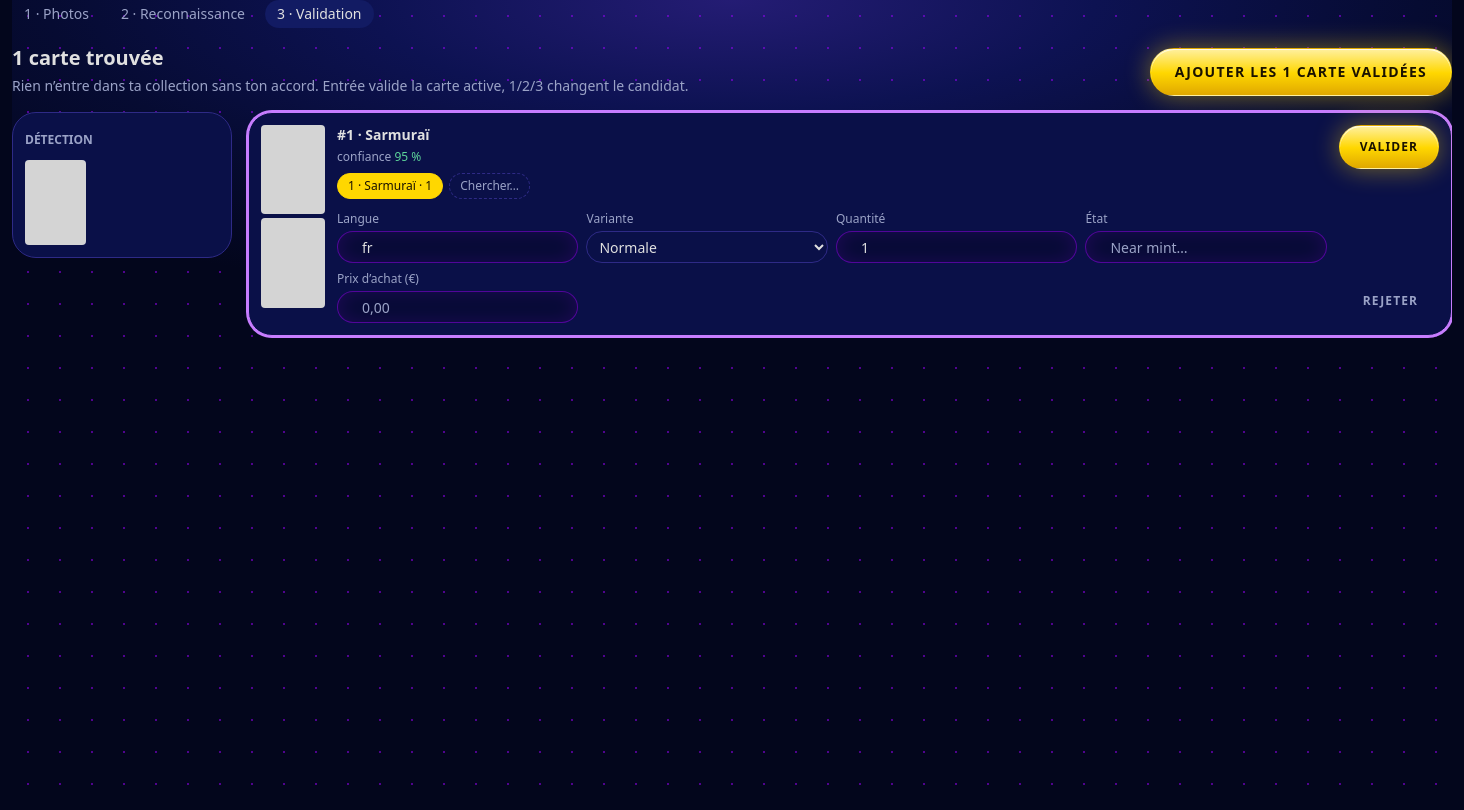
Test case: ValidationView › valide la carte active au clic sur « Valider » et envoie le candidat sélectionné
This screenshot has width=1464, height=810.
Click the button "Valider".
click(1389, 147)  # box [1339,125,1439,169]
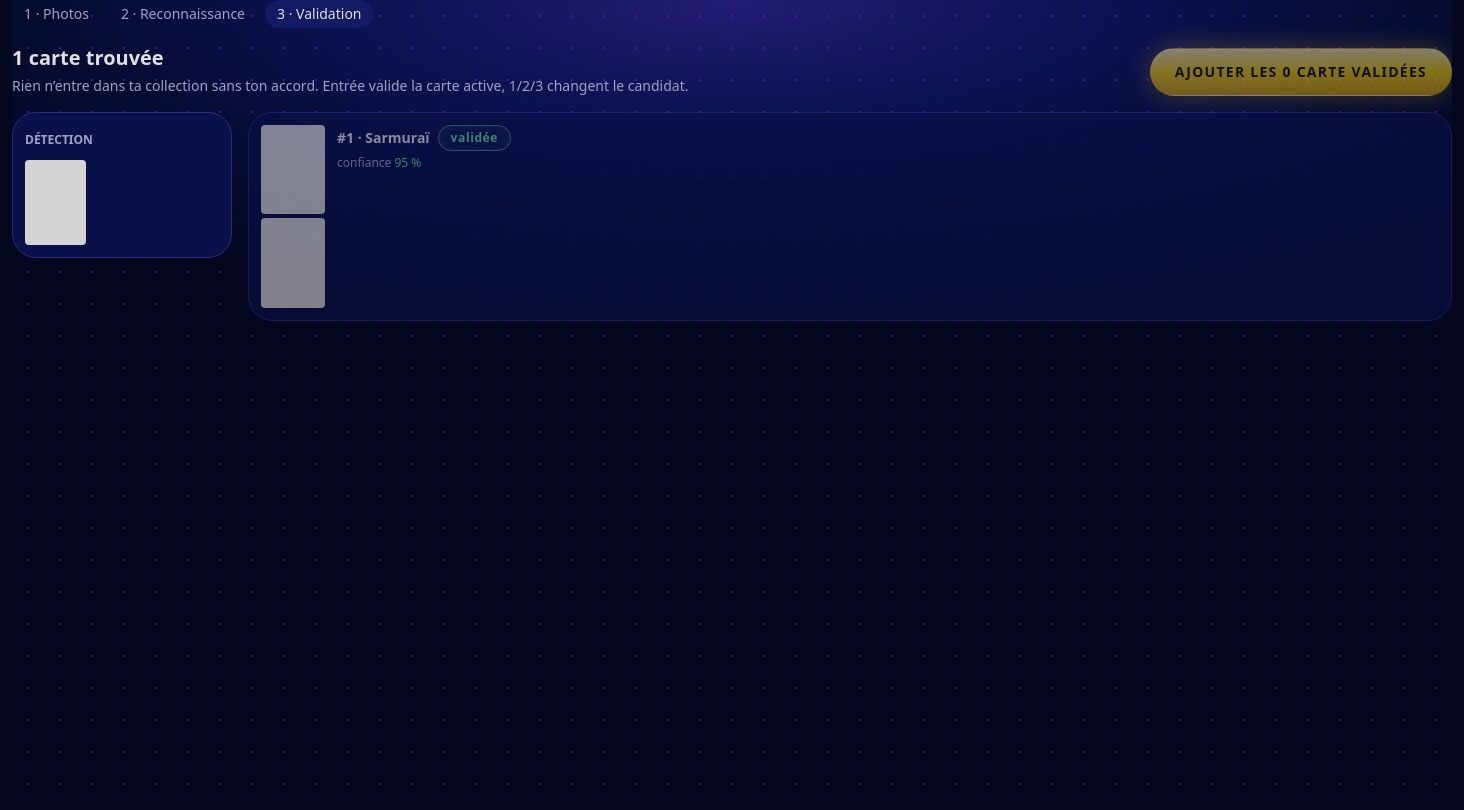
Now the text "validée" is shown, box [438,125,511,151]
